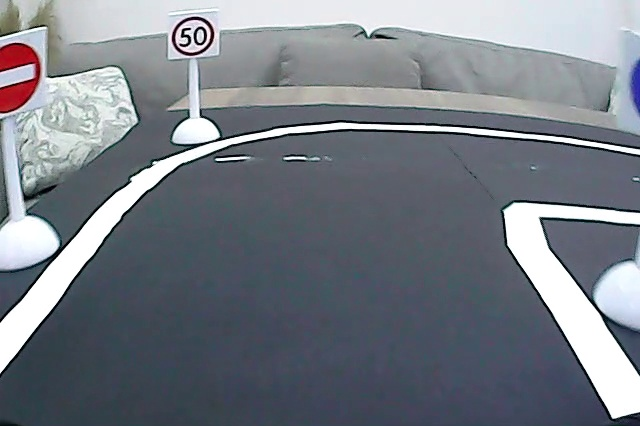do not enter: (1, 38, 44, 118)
speed limit 50: (169, 15, 216, 59)
